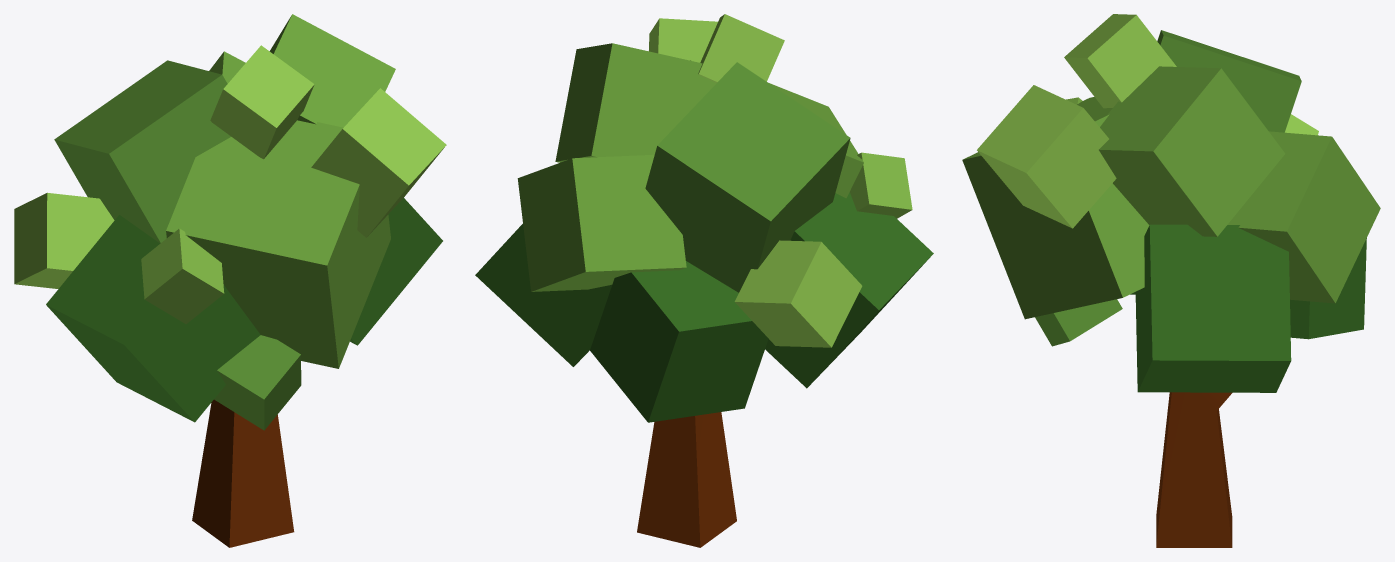
The model's file is Tree_LV2.fbx.
The picture shows the model from 3 angles, left to right: view 1: azimuth 30°, elevation 25°; view 2: azimuth 150°, elevation 25°; view 3: azimuth 270°, elevation 25°; orthographic projection. The views are drawn at different scales.
Parts seen in each view (by area): view 1: Tree_LV2; view 2: Tree_LV2; view 3: Tree_LV2.
Part boxes in pixels (x1,y1,x2,y2): Tree_LV2: [14, 14, 446, 547]; Tree_LV2: [475, 14, 933, 547]; Tree_LV2: [962, 14, 1380, 547].
Size of the model in its own units: 341 by 437 by 324.
